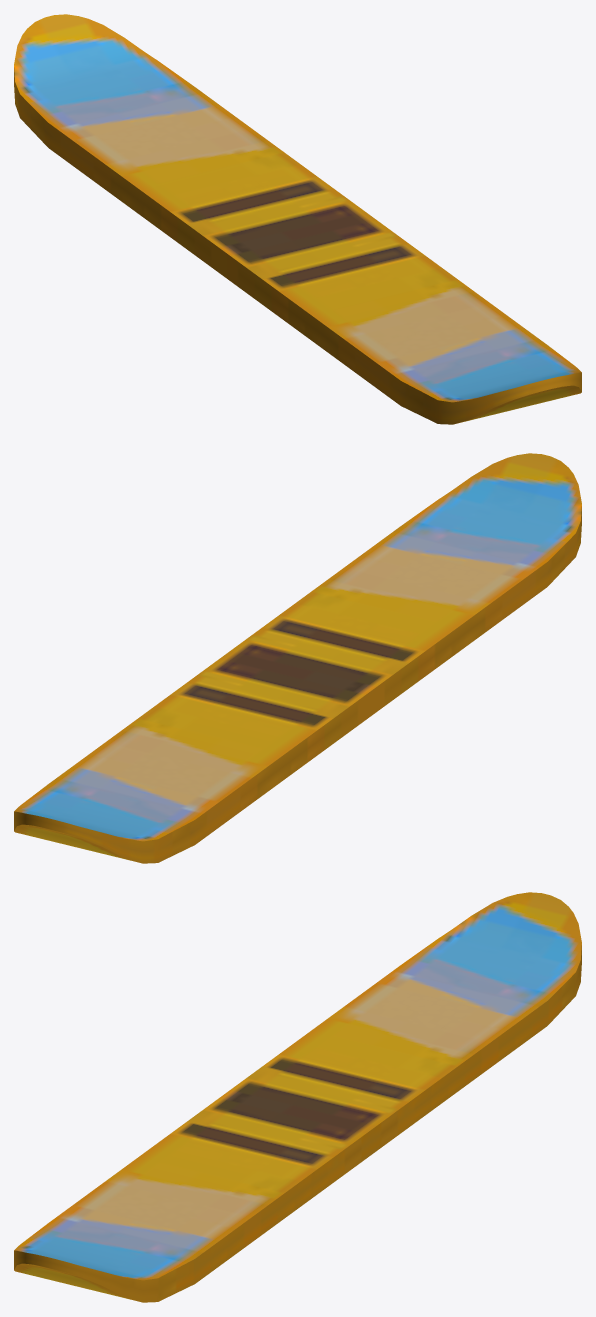
The model's file is pref_sm_beach_winter_hxb03_lv3.fbx.
3 renders of one model, top to bottom at view 1: azimuth 30°, elevation 25°; view 2: azimuth 150°, elevation 25°; view 3: azimuth 330°, elevation 25°, orthographic.
Visible parts, largest first — view 1: pref_sm_beach_winter_hxb03_lv3; view 2: pref_sm_beach_winter_hxb03_lv3; view 3: pref_sm_beach_winter_hxb03_lv3.
Part boxes in pixels (x1,y1,x2,y2): pref_sm_beach_winter_hxb03_lv3: [14, 14, 581, 424]; pref_sm_beach_winter_hxb03_lv3: [14, 453, 581, 863]; pref_sm_beach_winter_hxb03_lv3: [14, 892, 581, 1302].
Size of the model in its own units: 0.5204 by 0.2076 by 3.07.
